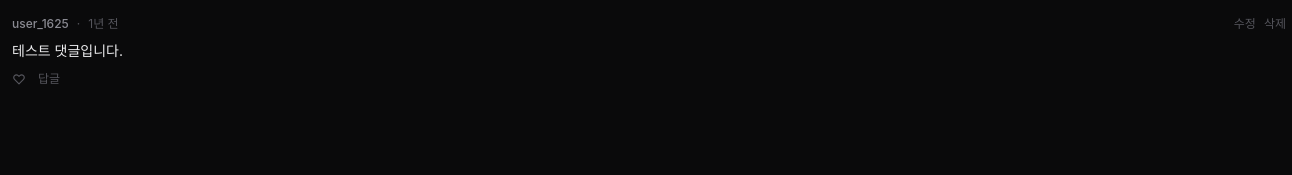
Test: CommentItem — 수정 › 수정 버튼 클릭 시 인라인 폼에 기존 내용이 채워진다
Click the button "수정" at (1245, 24), box x1=1234 y1=16 x2=1256 y2=32
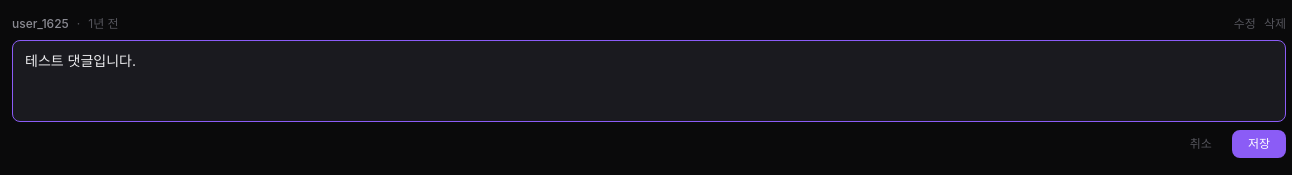
Expected: the text box showing "테스트 댓글입니다." is shown, x1=12 y1=40 x2=1286 y2=122
